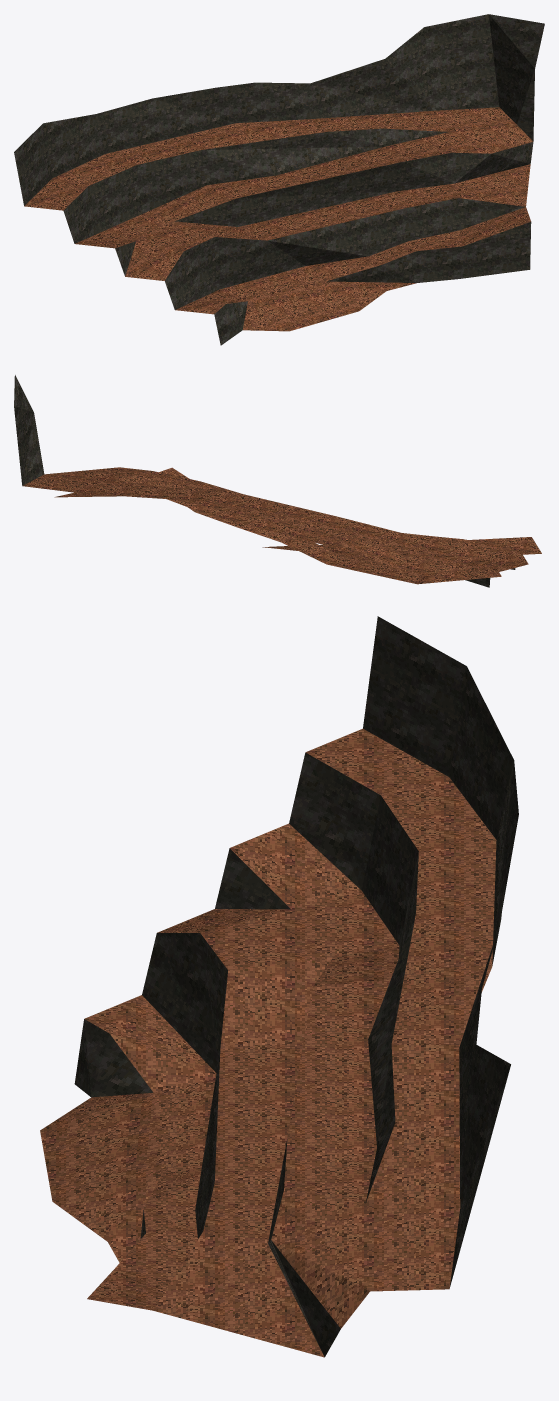
Rendered from quarry_lodbit02.obj.
3 renders of one model, top to bottom at view 1: azimuth 30°, elevation 25°; view 2: azimuth 150°, elevation 25°; view 3: azimuth 270°, elevation 25°, orthographic. The views are drawn at different scales.
Visible parts, largest first — view 1: quarry_lodbit02; view 2: quarry_lodbit02; view 3: quarry_lodbit02.
Boxes of the visible parts, <box> form: quarry_lodbit02: <box>14,14,544,345</box>; quarry_lodbit02: <box>14,375,541,587</box>; quarry_lodbit02: <box>40,616,518,1357</box>.
Bounding box in the file's own units: 231 × 70.95 × 90.42.
Materials: 2 (2 with a texture image).
